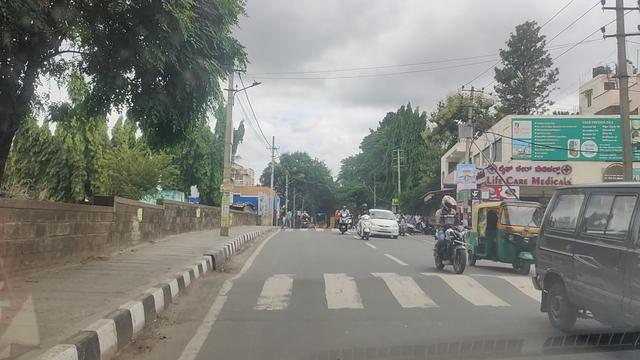SpeedBump: (218, 257, 527, 319)
